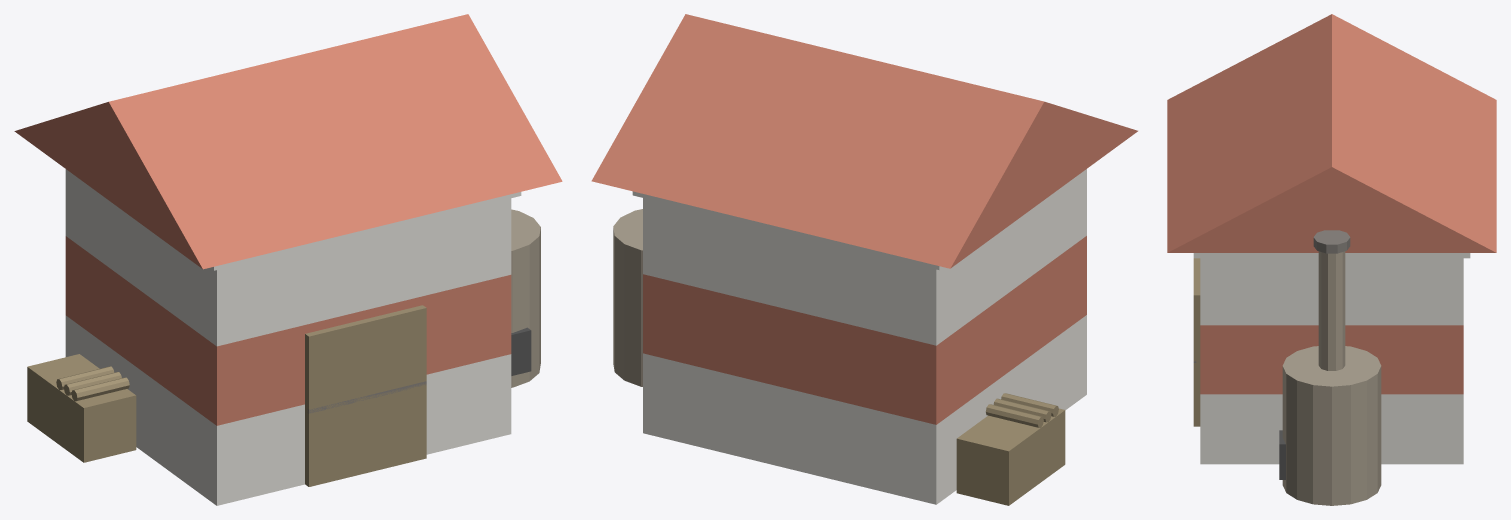
Rendered from Workshop_Byzantine.fbx.
The picture shows the model from 3 angles, left to right: view 1: azimuth 30°, elevation 25°; view 2: azimuth 150°, elevation 25°; view 3: azimuth 270°, elevation 25°; orthographic projection. The views are drawn at different scales.
Visible parts, largest first — view 1: Workshop_Byzantine_Mesh; view 2: Workshop_Byzantine_Mesh; view 3: Workshop_Byzantine_Mesh.
Part boxes in pixels (x1,y1,x2,y2): Workshop_Byzantine_Mesh: [14, 14, 562, 505]; Workshop_Byzantine_Mesh: [591, 14, 1137, 505]; Workshop_Byzantine_Mesh: [1167, 14, 1496, 505].
Bounding box in the file's own units: 6.85 × 5.22 × 5.
